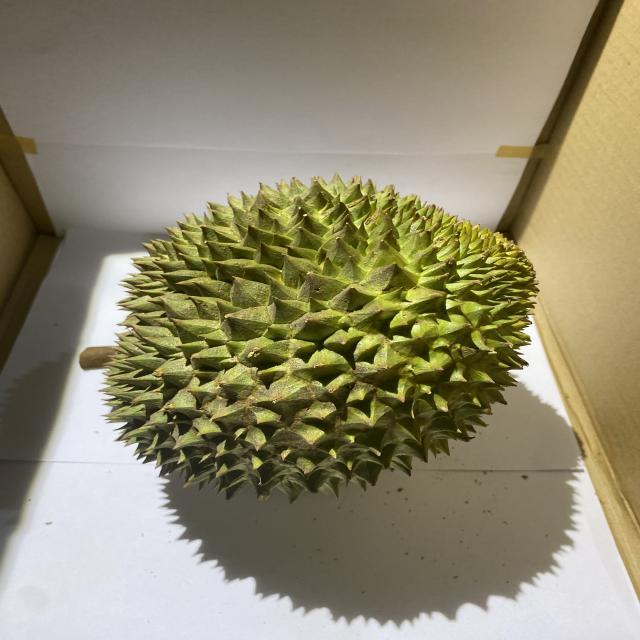immature: (95, 173, 541, 505)
